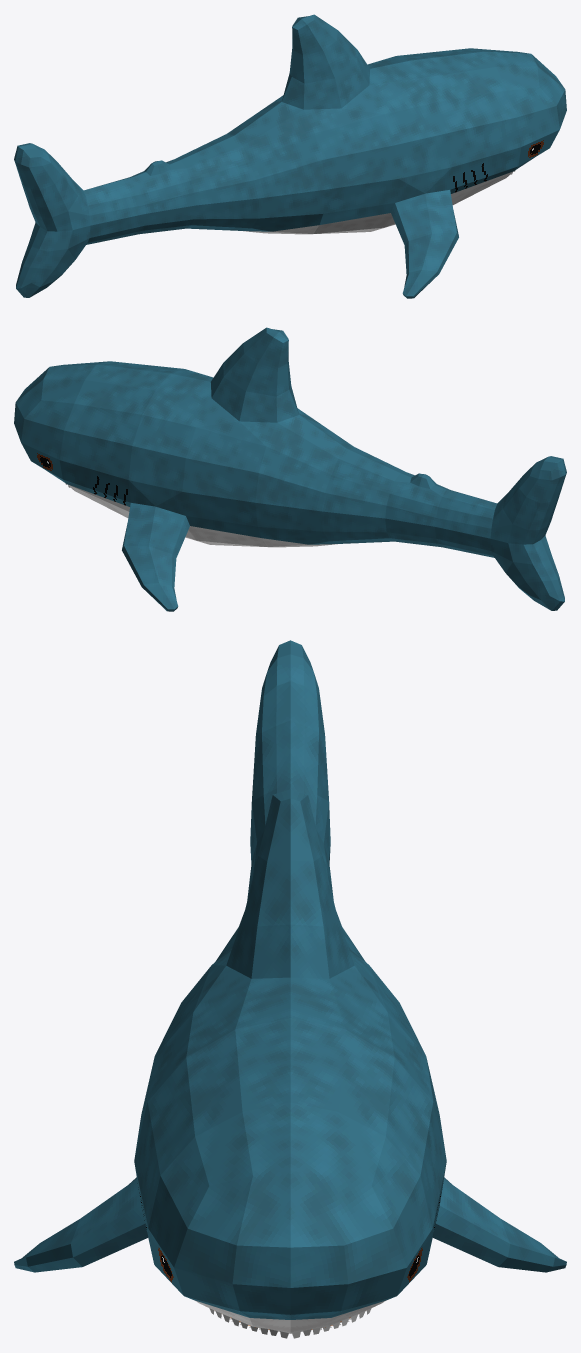
File: shark.glb
3 views of the same model, one above another, from view 1: azimuth 30°, elevation 25°; view 2: azimuth 150°, elevation 25°; view 3: azimuth 270°, elevation 25° (orthographic). The views are drawn at different scales.
Visible parts, largest first — view 1: SaveShark; view 2: SaveShark; view 3: SaveShark.
Boxes of the visible parts, <box> form: SaveShark: <box>14,14,566,298</box>; SaveShark: <box>14,327,566,611</box>; SaveShark: <box>14,640,566,1338</box>.
Size of the model in its own units: 0.8499 by 0.3547 by 0.3985.
1 material, 1 textured.
